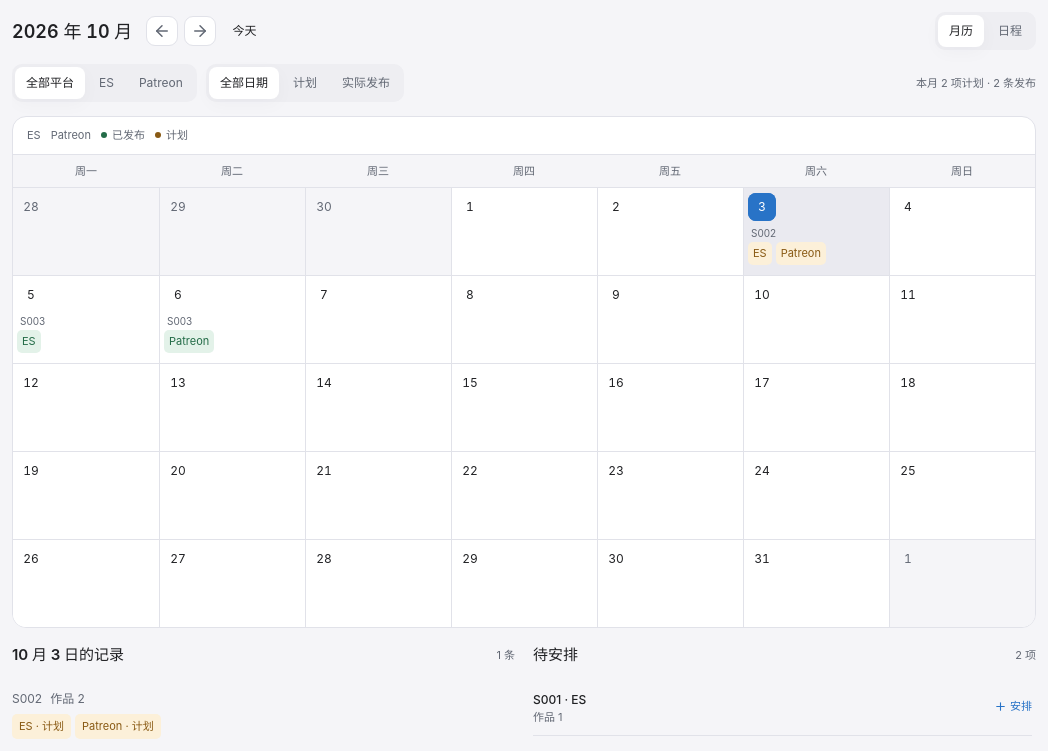
it: switches to the agenda and edits the same persisted platform record
This screenshot has width=1048, height=751.
Click the button "日程" at point(1010, 31), box [987,15,1033,47]
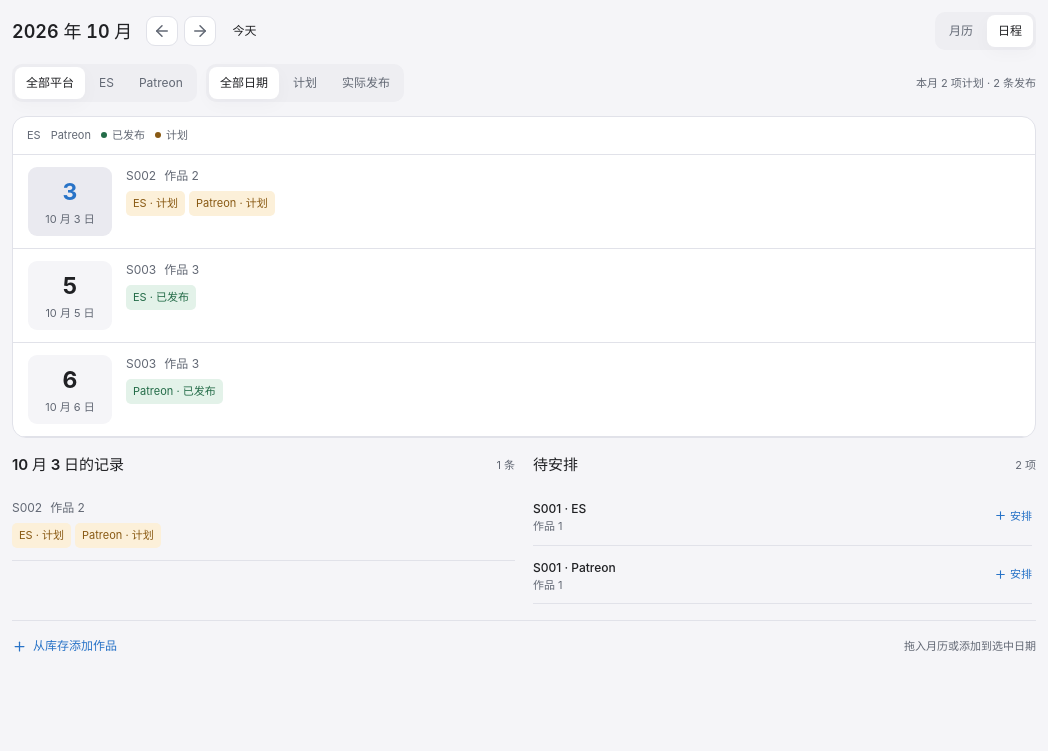
Click the button with aria-label "S003 ES 已发布 2026-10-05" at point(161, 297), box [126,284,196,310]
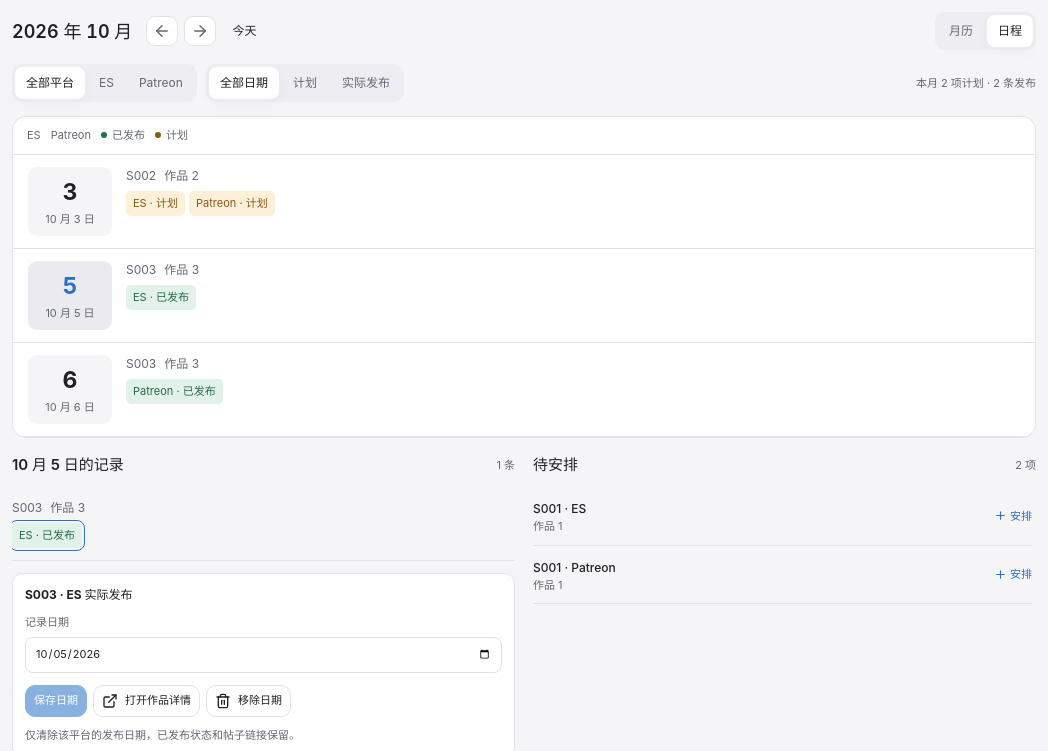
Type "2026-10-09" into the date field labelled "记录日期" at point(264, 654), box [25,636,502,672]
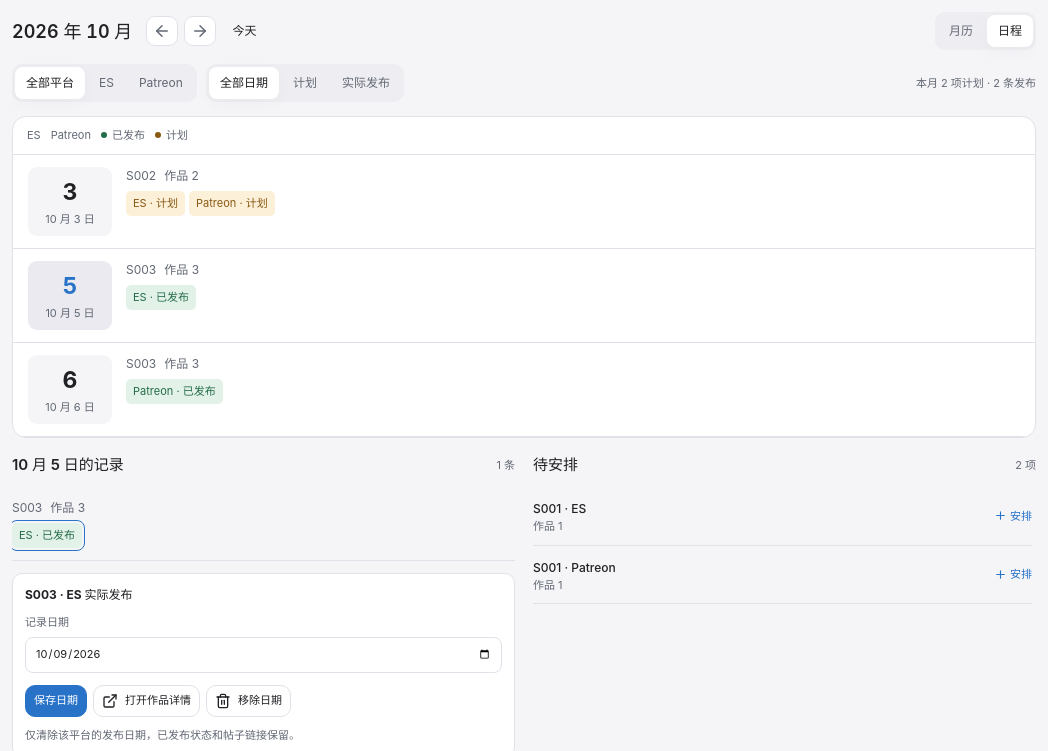
Click the button "保存日期" at point(56, 700), box [25,684,87,716]
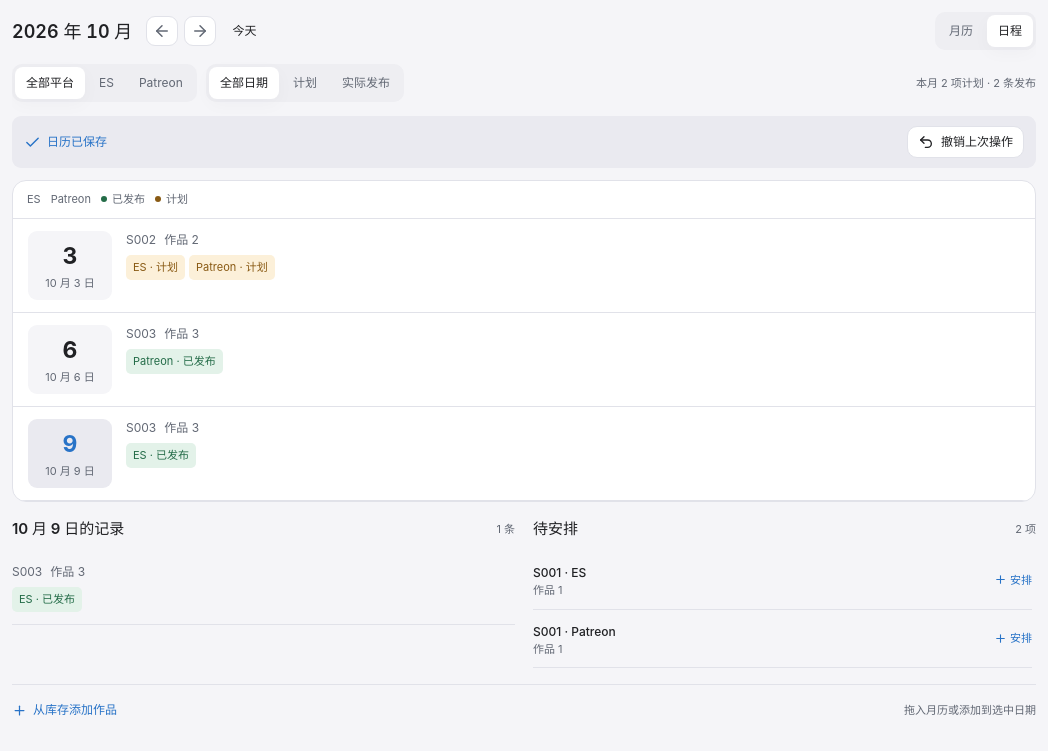
Check: the button with aria-label "S003 ES 已发布 2026-10-09" is shown, box [126,442,196,468]
Click the button "月历" at point(961, 31), box [938,15,984,47]
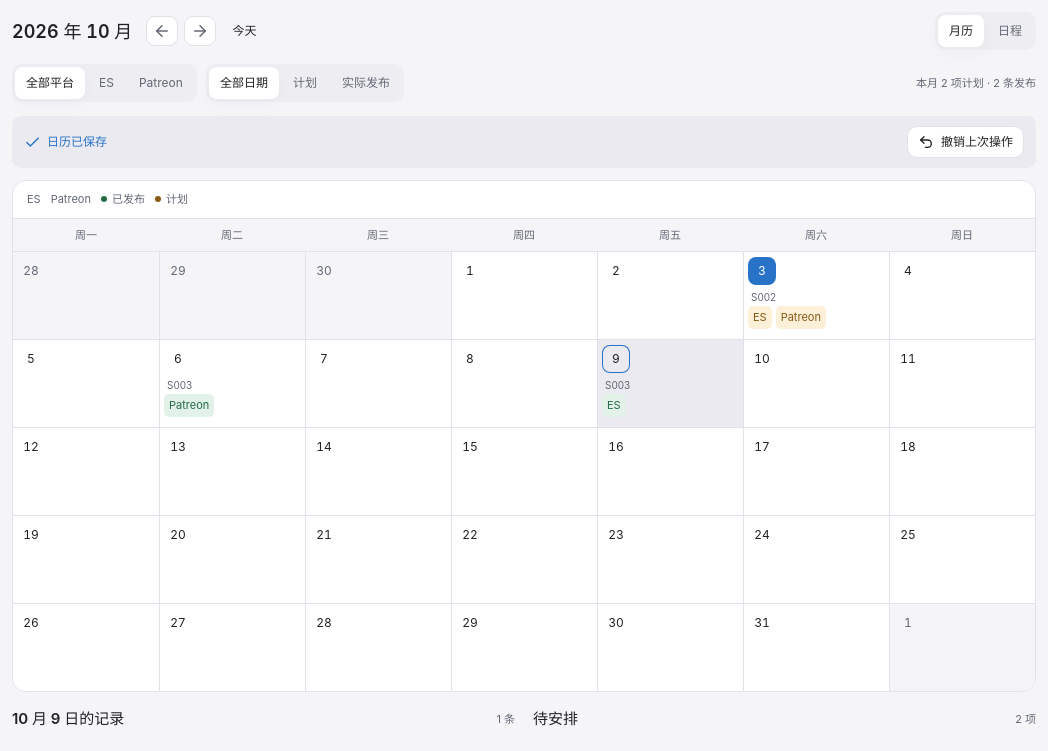
Check: the element named "2026-10 月历" is shown
